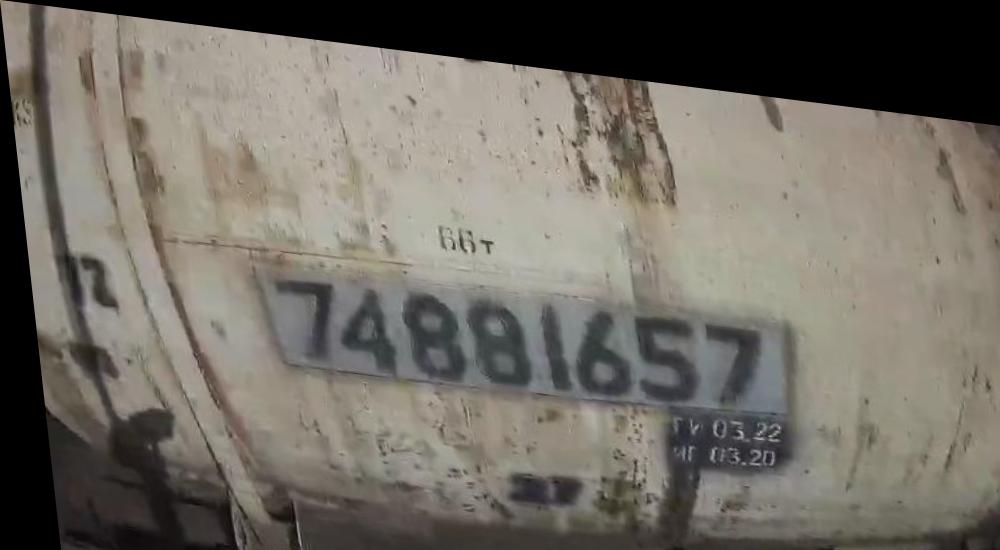Wagon-number: (268, 256, 769, 404)
